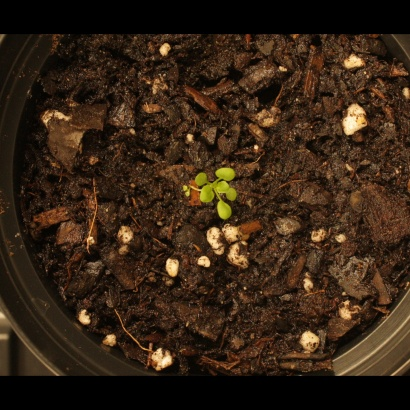leaf: (184, 164, 207, 187), (212, 203, 235, 226), (193, 184, 216, 207), (213, 160, 236, 183), (213, 176, 236, 199), (220, 182, 243, 205)
